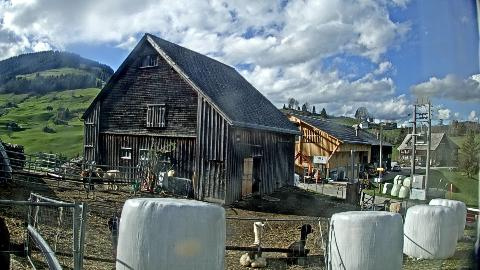car: (392, 164, 402, 172), (418, 162, 426, 166)
sheep: (0, 214, 32, 270), (240, 221, 266, 266), (288, 224, 314, 266), (82, 170, 103, 190), (102, 170, 122, 190), (384, 200, 402, 215), (314, 230, 326, 250), (252, 177, 260, 193), (252, 178, 256, 184)
